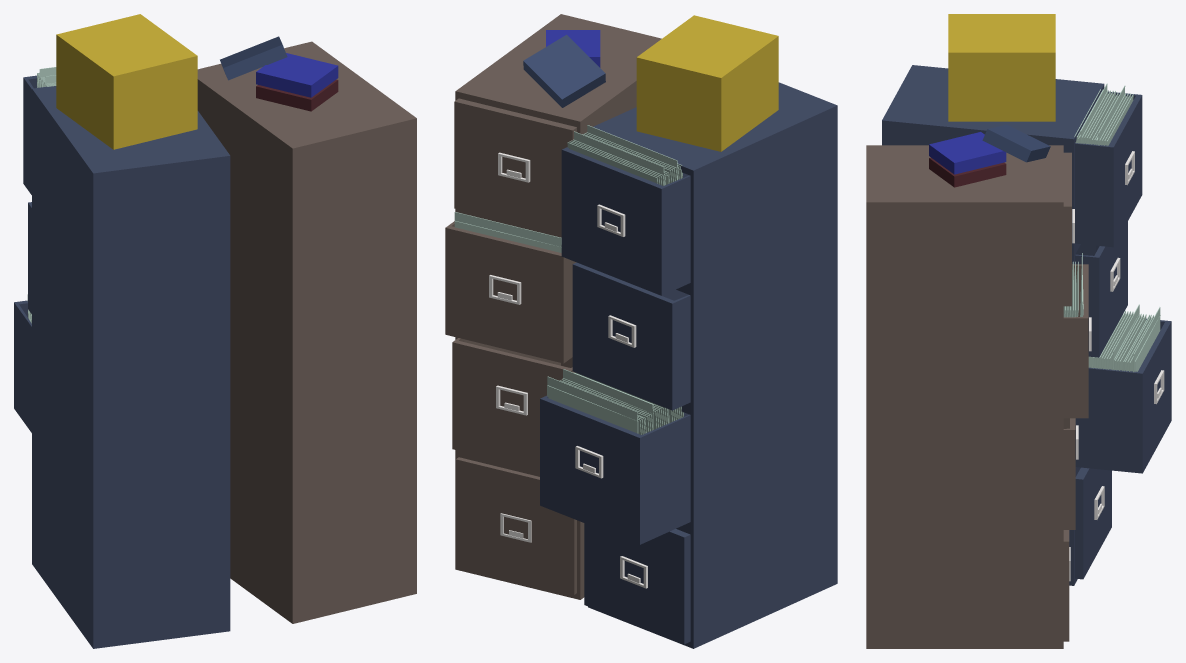
Rendered from filexcope.fbx.
3 renders of one model, left to right at view 1: azimuth 30°, elevation 25°; view 2: azimuth 150°, elevation 25°; view 3: azimuth 270°, elevation 25°, orthographic. The views are drawn at different scales.
Parts seen in each view (by area): view 1: Box388, Box387, Box397, Box399, Box400, Box398; view 2: Box388, Box387, Box397, Box400, Box411, Box401, Box399, Box419, Box410, Box437, Box446, Box402 (+1 smaller); view 3: Box387, Box388, Box397, Box399, Box400, Box398, Box411.
Boxes of the visible parts, x1,y1,x2,y2 form: Box388: (14, 75, 230, 648); Box387: (197, 41, 416, 623); Box397: (56, 14, 197, 149); Box399: (256, 53, 338, 97); Box400: (220, 36, 287, 80); Box398: (256, 79, 338, 111); Box388: (540, 82, 837, 648); Box387: (445, 14, 661, 599); Box397: (636, 15, 778, 151); Box400: (523, 34, 605, 107); Box411: (547, 385, 638, 433); Box401: (454, 212, 561, 246); Box399: (546, 30, 600, 67); Box419: (563, 369, 653, 413); Box410: (547, 376, 637, 420); Box437: (574, 131, 664, 185); Box446: (587, 125, 677, 179); Box402: (454, 221, 561, 252); Box387: (866, 145, 1088, 648); Box388: (882, 65, 1171, 585); Box397: (948, 14, 1055, 121); Box399: (929, 132, 1006, 174); Box400: (982, 124, 1050, 162); Box398: (929, 157, 1006, 187); Box411: (1134, 315, 1160, 371).
Bounding box in the file's own units: 12.97 × 22.73 × 12.18.
